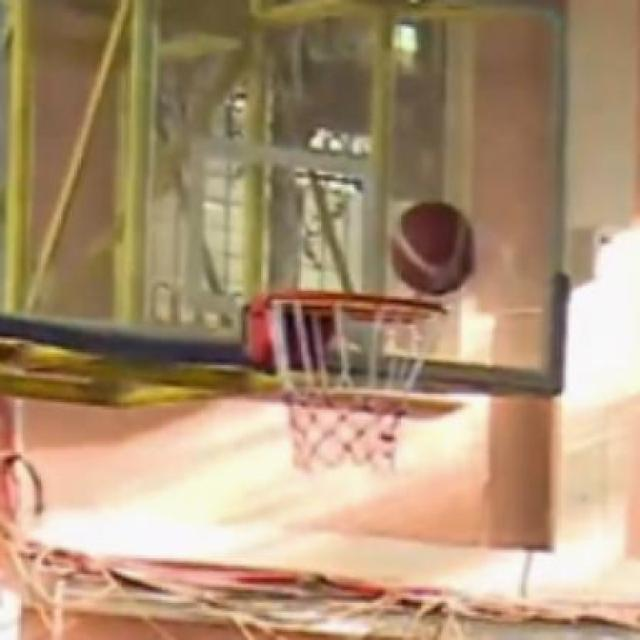Ball: (390, 196, 480, 301)
